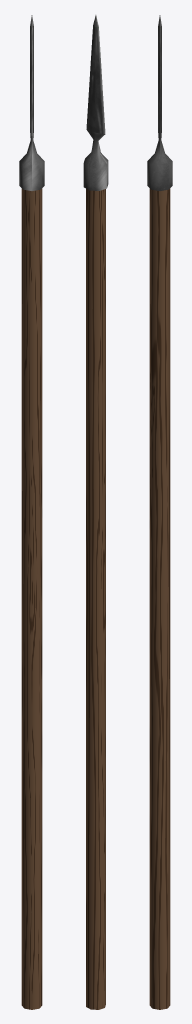
Rendered from Spear.fbx.
3 views of the same model, side by side, from view 1: azimuth 90°, elevation 25°; view 2: azimuth 150°, elevation 25°; view 3: azimuth 270°, elevation 25° (orthographic).
Parts seen in each view (by area): view 1: SpearStick, SpearTip; view 2: SpearStick, SpearTip; view 3: SpearStick, SpearTip.
Boxes of the visible parts, x1=… form: SpearStick: x1=21, y1=188, x2=42, y2=1009; SpearTip: x1=19, y1=15, x2=44, y2=190; SpearStick: x1=86, y1=188, x2=105, y2=1009; SpearTip: x1=83, y1=15, x2=108, y2=190; SpearStick: x1=149, y1=188, x2=170, y2=1009; SpearTip: x1=147, y1=15, x2=172, y2=190.
Size of the model in its own units: 4.91 by 212 by 4.91.
